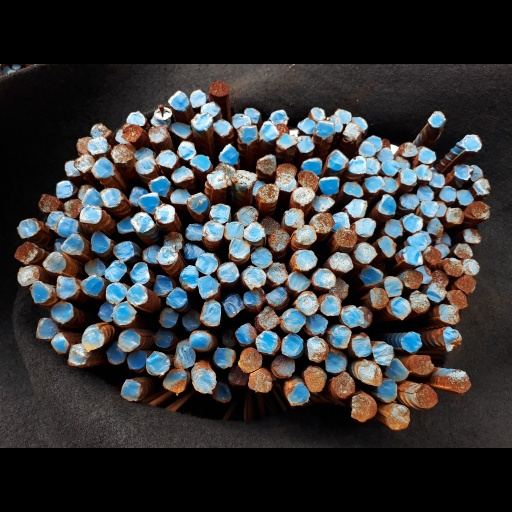dipstick: (351, 395, 375, 422), (145, 350, 170, 375), (332, 371, 355, 398), (358, 362, 383, 386), (111, 301, 136, 325), (307, 335, 329, 362), (281, 309, 306, 332), (303, 366, 325, 392), (371, 342, 394, 366), (192, 370, 216, 393), (162, 369, 186, 392), (409, 353, 434, 375), (130, 211, 155, 233), (255, 330, 278, 353), (81, 326, 104, 349), (15, 241, 38, 264), (415, 386, 439, 408), (385, 358, 409, 380), (286, 383, 310, 405), (271, 356, 295, 378), (257, 306, 279, 330), (126, 282, 148, 306), (359, 265, 384, 286), (201, 300, 221, 326), (281, 334, 303, 357), (266, 262, 288, 285), (243, 267, 266, 289), (173, 345, 195, 368), (120, 378, 142, 401), (197, 275, 219, 298), (104, 260, 127, 282), (340, 306, 364, 327), (329, 251, 353, 272), (268, 228, 289, 252), (90, 157, 114, 178), (55, 275, 76, 299), (60, 233, 84, 254), (352, 332, 372, 357), (180, 264, 198, 291), (138, 192, 160, 214), (148, 175, 170, 197), (409, 291, 430, 314), (390, 296, 411, 319), (319, 294, 342, 315), (295, 293, 318, 314), (188, 330, 211, 351), (195, 253, 218, 274), (117, 331, 140, 352), (43, 252, 66, 273), (330, 325, 350, 349), (310, 213, 334, 233), (450, 371, 471, 393), (251, 247, 273, 268), (217, 261, 239, 282), (213, 347, 234, 369), (187, 192, 208, 214), (105, 282, 126, 304), (36, 317, 57, 339), (51, 302, 73, 323), (377, 380, 397, 403), (324, 352, 347, 372), (238, 352, 261, 372), (223, 294, 243, 317), (30, 280, 50, 303), (37, 192, 60, 212), (248, 373, 272, 392), (189, 112, 214, 130), (314, 268, 335, 289), (210, 382, 231, 403), (152, 327, 173, 348), (168, 90, 189, 111), (166, 287, 187, 308), (57, 215, 78, 236), (389, 407, 409, 429), (326, 150, 348, 170), (295, 250, 317, 270), (288, 271, 310, 291), (265, 286, 287, 306), (236, 124, 258, 144), (236, 206, 258, 226), (218, 143, 238, 165), (209, 203, 231, 223), (127, 186, 149, 206), (99, 187, 121, 207), (17, 266, 39, 286), (90, 231, 110, 253), (334, 228, 357, 247), (257, 183, 280, 202), (79, 205, 102, 224), (443, 327, 461, 351), (447, 290, 468, 310), (401, 331, 422, 351), (355, 217, 376, 237), (318, 176, 339, 196), (306, 314, 327, 334), (298, 170, 318, 191), (259, 121, 279, 142), (229, 237, 249, 258), (228, 364, 248, 385), (182, 310, 202, 331), (203, 220, 223, 241), (130, 262, 150, 283), (153, 274, 173, 295), (113, 241, 134, 261), (345, 198, 367, 217), (275, 174, 297, 193), (156, 245, 178, 264), (50, 332, 69, 354), (378, 235, 396, 258), (292, 187, 315, 205), (171, 165, 194, 183), (464, 201, 488, 218), (236, 323, 256, 343), (244, 221, 264, 241), (232, 170, 257, 186), (155, 204, 175, 224), (355, 244, 376, 263), (329, 277, 348, 298), (331, 211, 350, 232), (295, 225, 316, 244), (243, 288, 264, 307), (126, 351, 147, 370), (155, 149, 176, 168), (17, 219, 38, 238), (370, 287, 388, 309), (440, 305, 459, 325), (403, 270, 423, 289), (377, 194, 396, 214), (256, 154, 275, 174), (223, 221, 243, 240), (176, 141, 196, 160), (159, 308, 179, 327), (106, 344, 125, 364), (455, 275, 476, 293), (189, 154, 210, 172), (134, 156, 155, 174), (110, 145, 131, 163), (68, 345, 86, 366), (82, 188, 103, 206), (74, 154, 95, 172), (312, 195, 334, 212), (169, 122, 191, 139), (420, 198, 439, 217), (427, 283, 446, 302), (444, 258, 463, 277), (403, 246, 422, 265), (343, 122, 362, 141), (285, 208, 304, 227), (384, 218, 402, 238), (403, 214, 423, 232), (400, 192, 420, 210), (315, 120, 335, 138), (295, 135, 315, 153), (260, 217, 280, 235), (88, 137, 108, 155), (63, 198, 81, 218), (206, 171, 227, 188), (121, 124, 142, 141), (384, 277, 402, 296), (164, 231, 182, 250), (142, 245, 160, 264), (46, 209, 64, 228), (422, 247, 442, 264), (301, 158, 321, 175), (170, 188, 190, 205), (85, 259, 105, 276), (364, 176, 385, 192), (275, 134, 297, 149), (150, 111, 172, 126), (185, 222, 203, 240), (76, 137, 94, 155), (426, 218, 443, 237), (407, 233, 426, 250), (149, 126, 168, 143), (98, 303, 115, 322), (358, 305, 372, 328), (200, 101, 220, 117), (184, 243, 204, 259), (125, 111, 145, 127), (276, 163, 297, 178), (209, 81, 230, 96), (472, 177, 489, 195), (456, 188, 473, 206), (380, 176, 398, 193), (348, 156, 366, 173), (213, 119, 231, 136), (462, 135, 481, 151), (357, 141, 376, 157), (232, 113, 251, 129), (91, 123, 110, 139), (343, 182, 363, 197), (439, 186, 456, 203), (393, 156, 410, 173), (455, 164, 473, 180), (431, 270, 449, 286), (297, 118, 315, 134), (190, 89, 206, 107), (117, 215, 133, 233), (463, 228, 482, 243), (454, 243, 473, 258), (397, 142, 417, 156), (429, 111, 446, 127), (429, 171, 445, 188), (414, 164, 431, 180), (415, 266, 431, 283), (400, 167, 416, 184), (377, 146, 394, 162), (56, 181, 72, 198), (64, 160, 81, 176), (270, 109, 288, 124), (215, 163, 235, 176), (463, 258, 479, 274), (115, 128, 131, 144), (418, 147, 435, 162), (366, 135, 381, 152), (365, 157, 380, 174), (334, 109, 351, 124), (433, 243, 449, 258), (244, 107, 259, 123), (469, 164, 483, 181), (416, 186, 433, 200), (78, 185, 93, 200), (329, 115, 342, 132), (134, 147, 154, 158), (436, 233, 451, 247), (417, 230, 431, 245), (352, 116, 367, 130), (311, 107, 325, 120), (55, 239, 68, 253), (274, 124, 289, 135), (436, 202, 446, 216), (381, 137, 391, 149)
